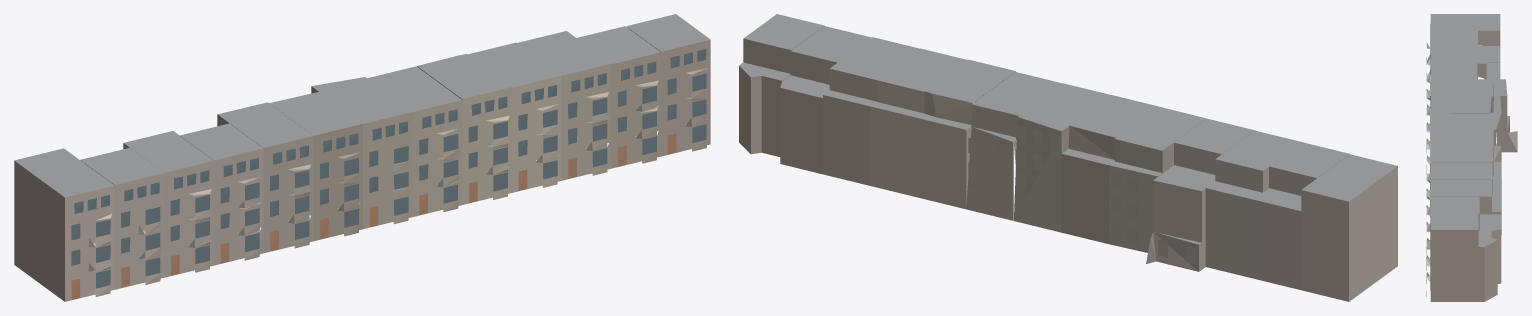
The model's file is chunk-face-boterdiep-37-59.lod2.glb.
3 renders of one model, left to right at view 1: azimuth 30°, elevation 25°; view 2: azimuth 150°, elevation 25°; view 3: azimuth 270°, elevation 25°, orthographic. The views are drawn at different scales.
Visible parts, largest first — view 1: lod2; view 2: lod2; view 3: lod2.
Part boxes in pixels (x1=…): lod2: x1=14, y1=14, x2=710, y2=301; lod2: x1=739, y1=14, x2=1397, y2=301; lod2: x1=1426, y1=14, x2=1517, y2=301.
Size of the model in its own units: 79.36 by 12.44 by 14.16.
